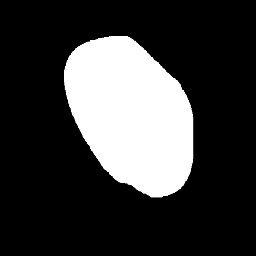mass: (59, 38, 176, 179)
